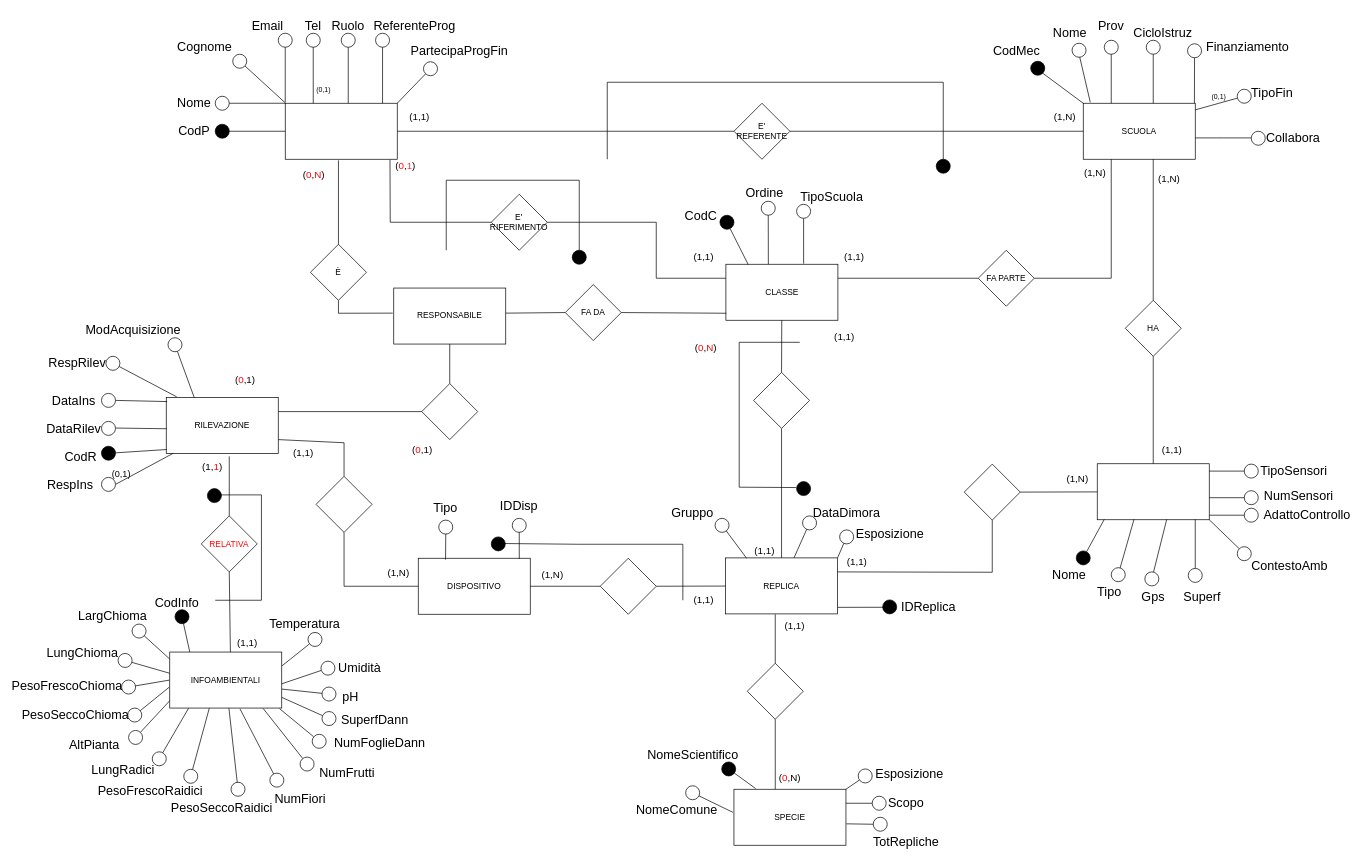
Image size: 1369x864. Some labels were removed from this diagram. Each missing label, with the centre of its shape:
APPARTIENE: point (775, 691)
ASSOCIATO A: point (628, 586)
E' CONTENUTA: point (992, 491)
EFFETTUA: point (449, 411)
GESTISCE: point (781, 400)
ORTO: point (1153, 491)
PERSONA: point (341, 131)
PRODUCE: point (343, 504)
